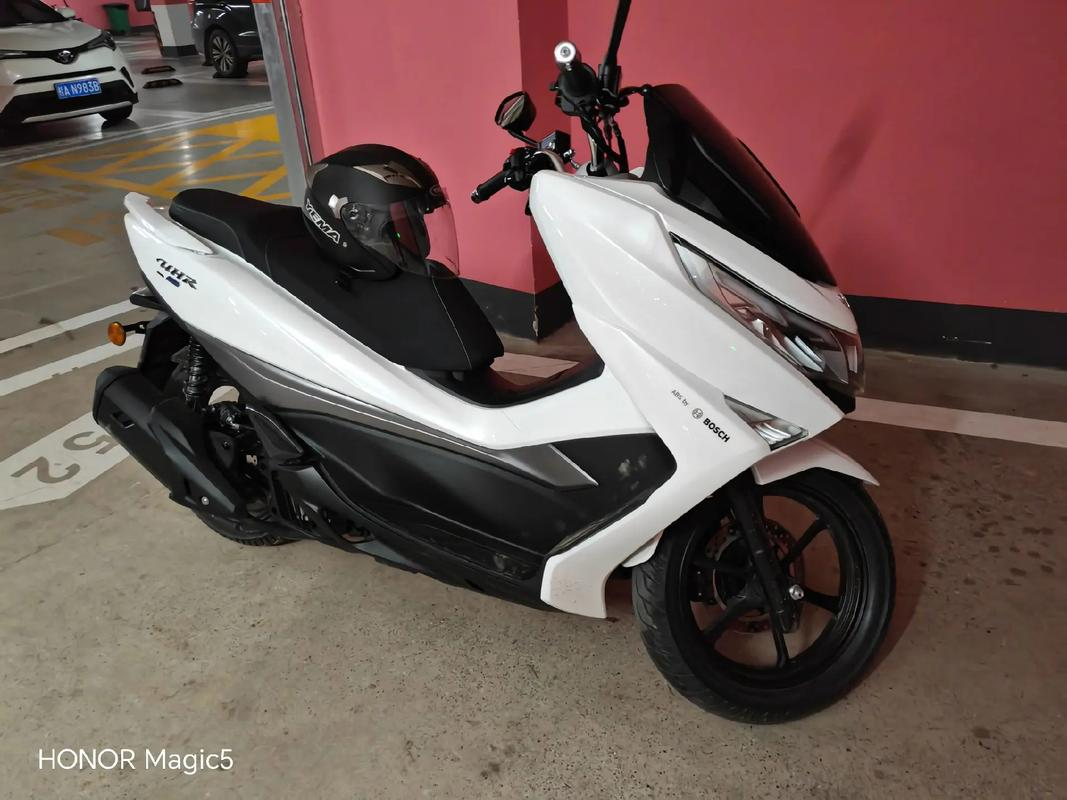摩托车: (79, 85, 990, 740)
